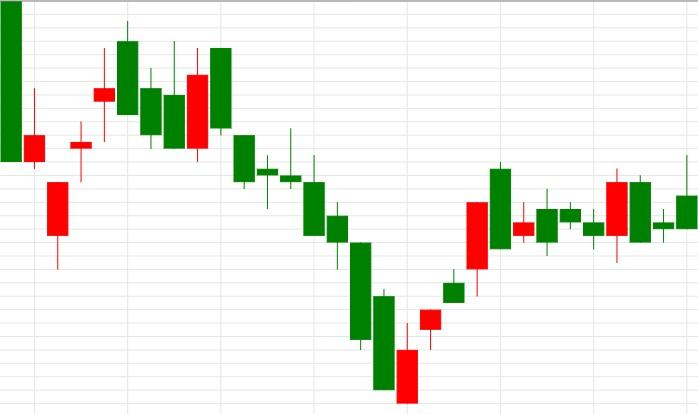bearish_engulfing_fall: (396, 162, 559, 404)
three_white_soldiers_rise: (0, 0, 116, 269)
